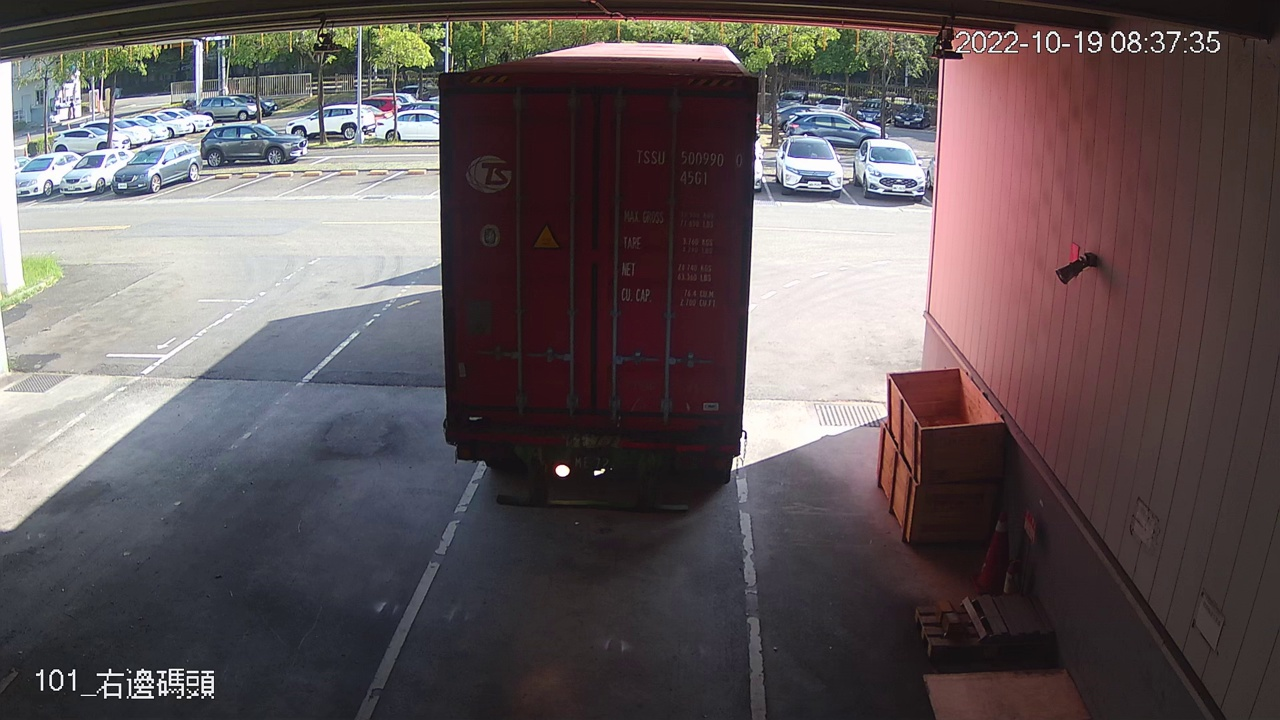container: (631, 141, 750, 190)
